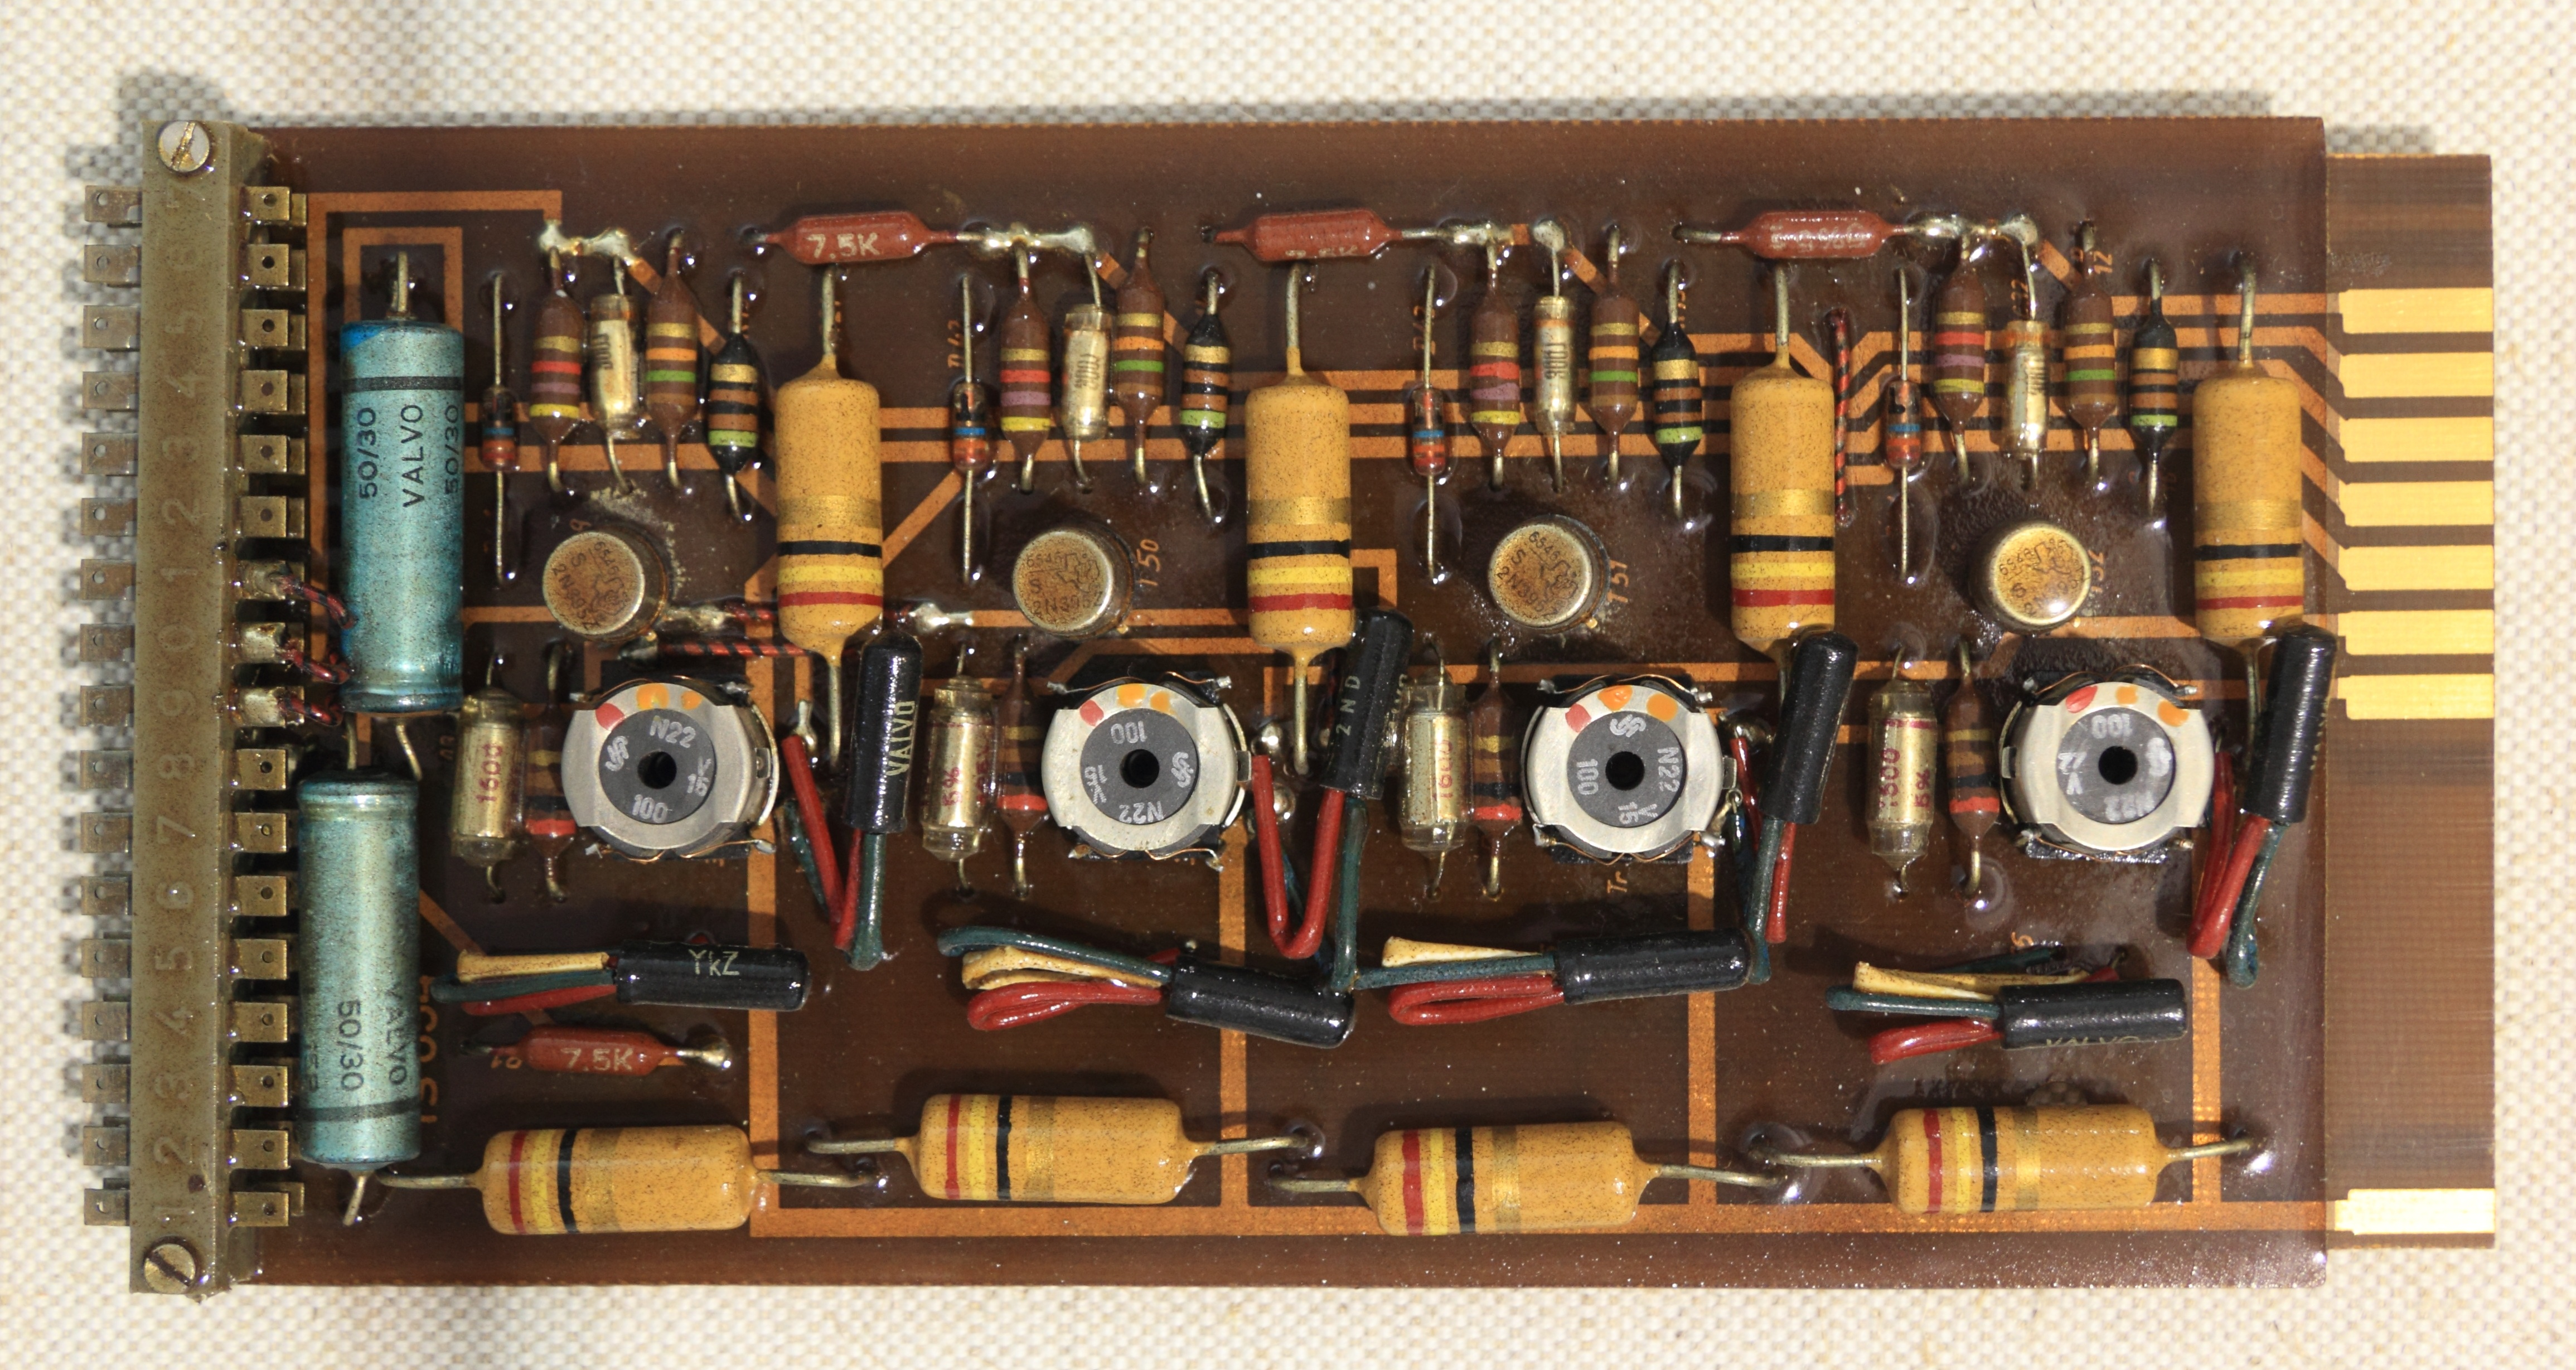Resistor: (1228, 358, 1382, 685), (871, 1077, 1228, 1217), (451, 1113, 789, 1256), (1840, 1092, 2189, 1225), (2181, 332, 2312, 676), (763, 348, 898, 678), (1325, 1113, 1663, 1239), (1728, 334, 1849, 678), (630, 249, 704, 448), (1457, 276, 1533, 465), (1923, 256, 1998, 448), (520, 281, 595, 469), (1641, 307, 1716, 494), (1934, 670, 2007, 857), (983, 670, 1060, 845), (2056, 259, 2125, 455), (1462, 671, 1533, 852), (1578, 269, 1651, 445), (1104, 252, 1172, 440), (990, 273, 1056, 463), (515, 685, 581, 871), (1169, 307, 1240, 469), (700, 324, 770, 489), (2125, 290, 2186, 467), (935, 366, 998, 494), (467, 360, 526, 494), (1397, 380, 1462, 496), (1874, 368, 1927, 477)
